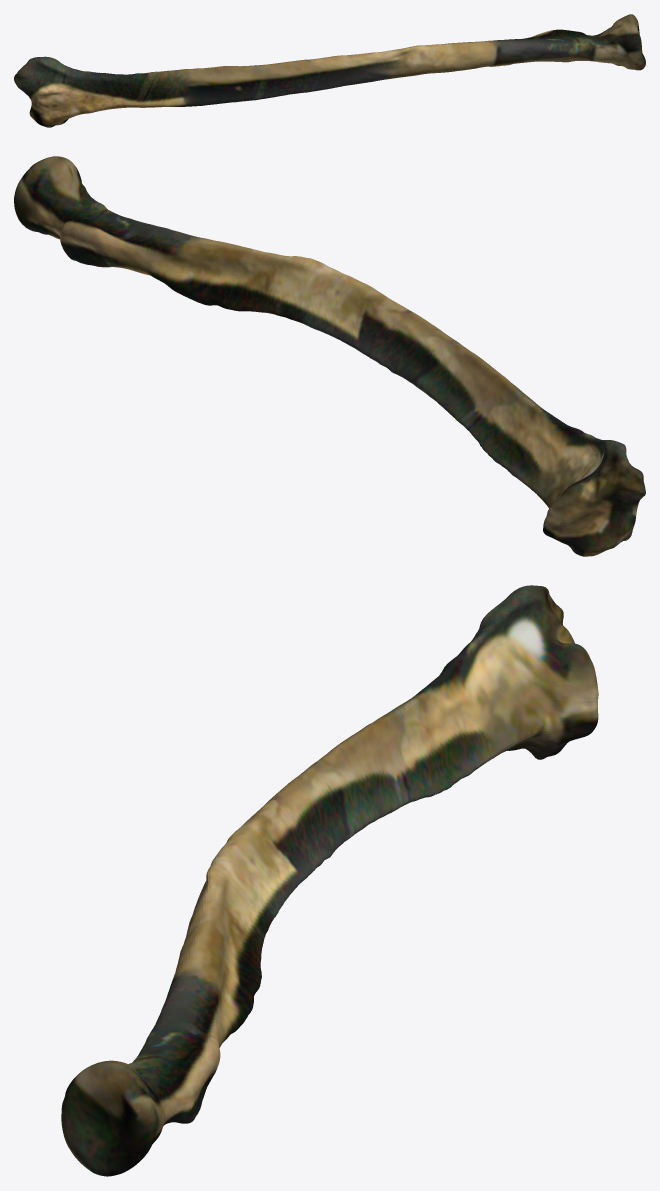
File: 1_radius.glb
3 views of the same model, one above another, from view 1: azimuth 30°, elevation 25°; view 2: azimuth 150°, elevation 25°; view 3: azimuth 270°, elevation 25° (orthographic). The views are drawn at different scales.
Parts seen in each view (by area): view 1: Node; view 2: Node; view 3: Node.
Part boxes in pixels (x1,y1,x2,y2): Node: (14, 14, 645, 127); Node: (14, 156, 645, 556); Node: (61, 585, 598, 1176).
Bounding box in the file's own units: 122 × 16.77 × 54.11.
1 material, 1 textured.
